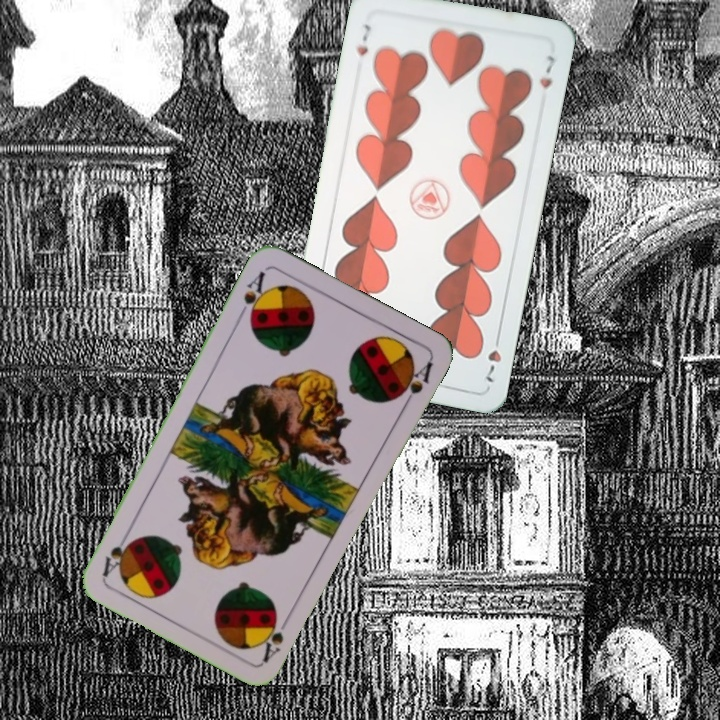H7: (479, 329, 504, 385), (352, 20, 374, 59)
SA: (258, 609, 294, 665), (239, 267, 271, 326)
